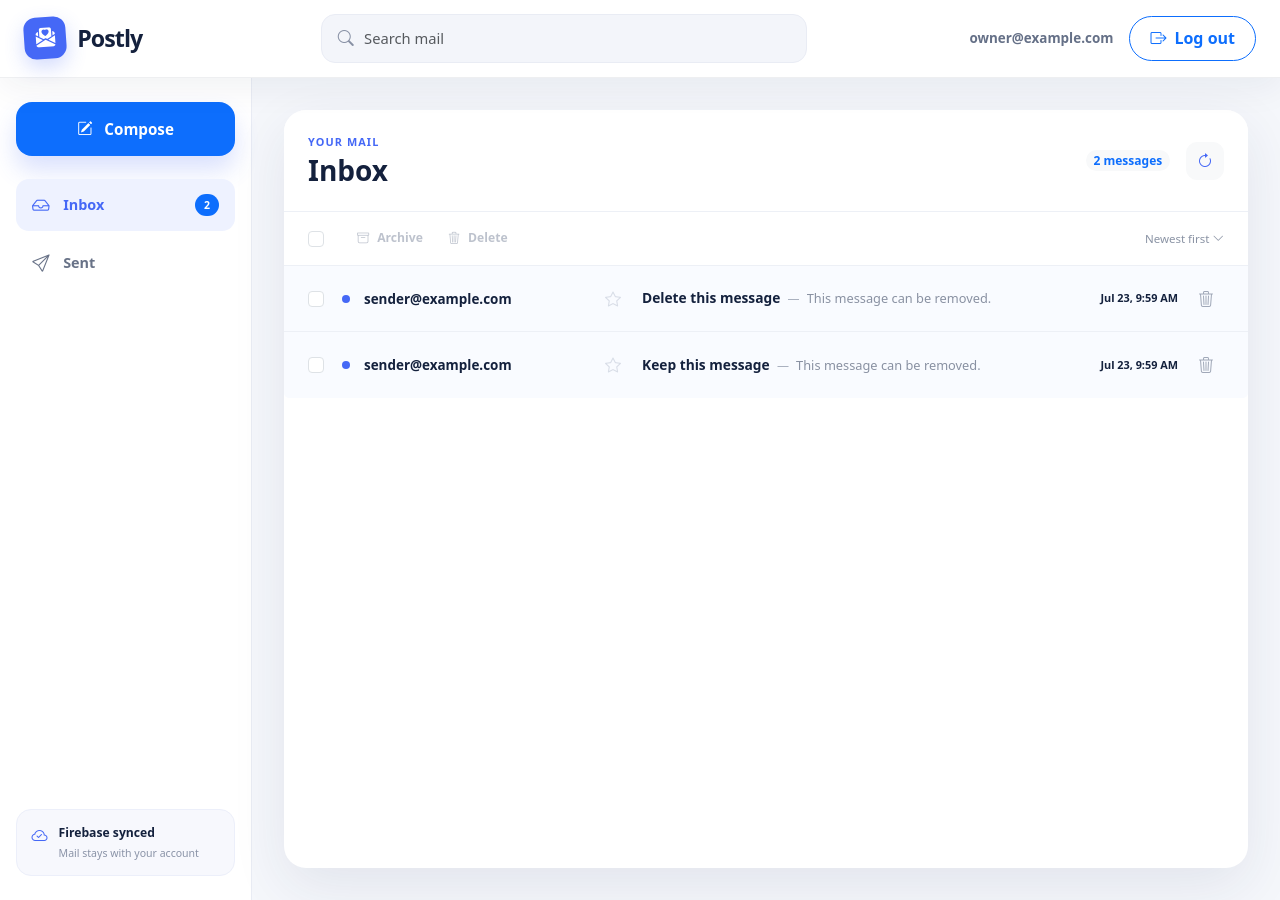
Test: Delete mail component › deletes an inbox message and removes it from the visible list
The width and height of the screenshot is (1280, 900).
Step 1. Click the button named "Delete message: Delete this message" → (1206, 299), box [1190, 283, 1222, 315]
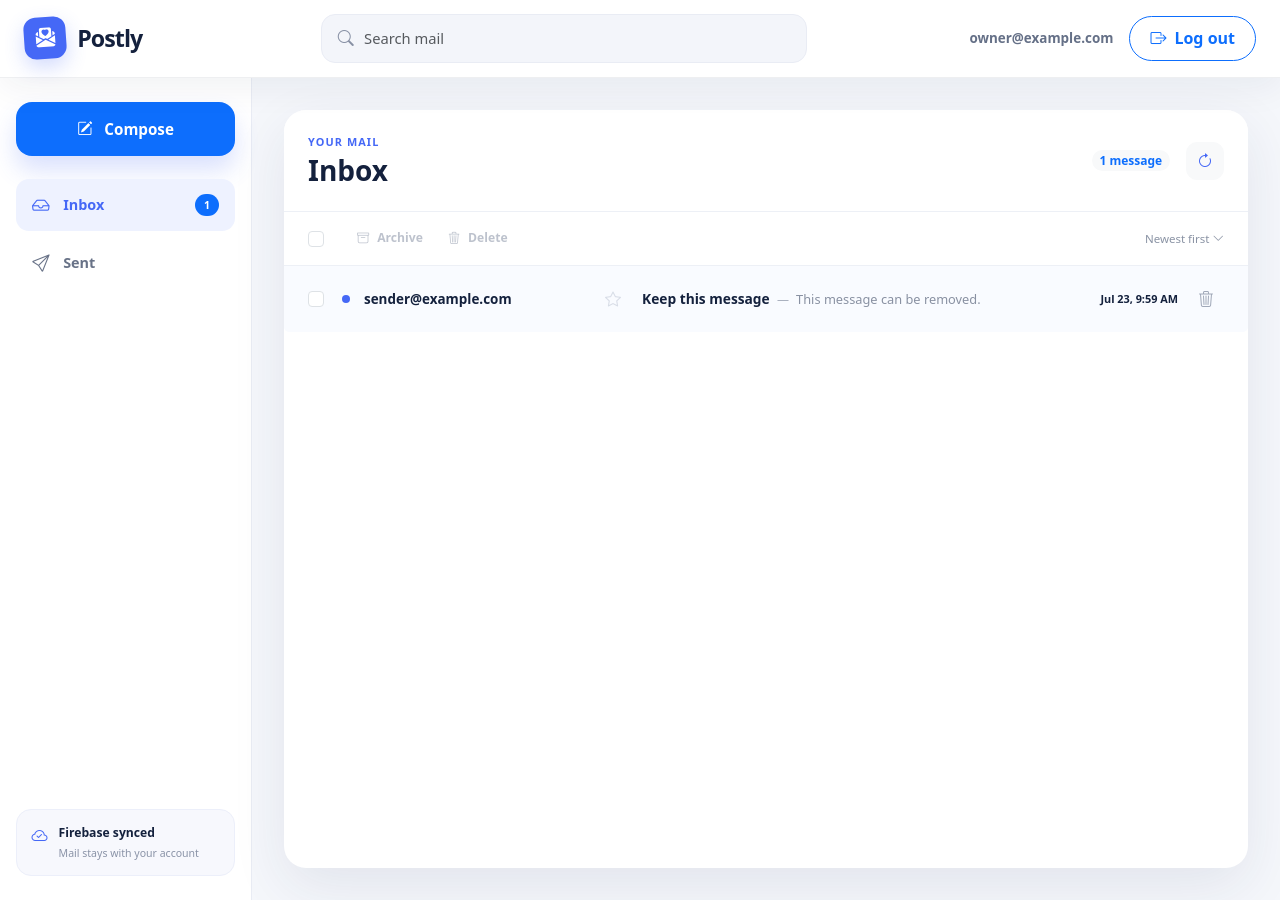
Check: the heading "Keep this message" is shown, box [642, 290, 770, 307]
Check: the button "Delete this message" is gone
Check: the text with test id "inbox-unread-count" reads "1", box [204, 198, 210, 212]
